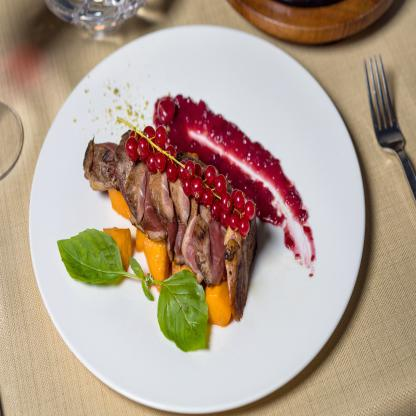Carne: (86, 138, 143, 215), (222, 232, 256, 318)
